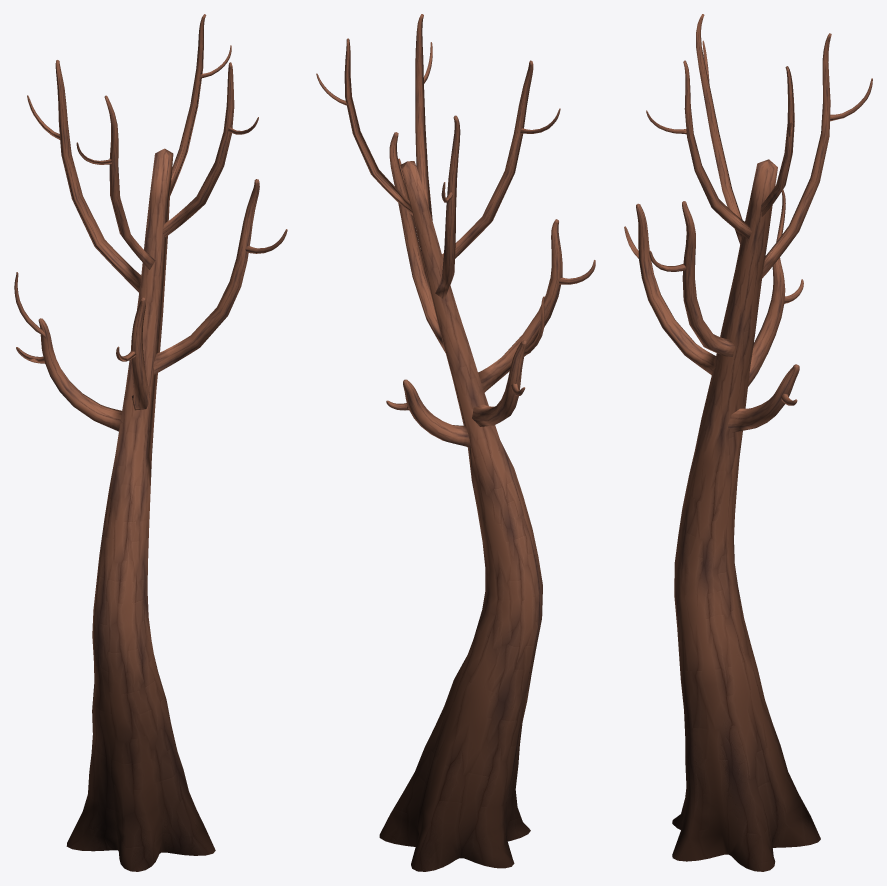
The model's file is commontree_4_bare.gltf.
3 views of the same model, side by side, from view 1: azimuth 30°, elevation 25°; view 2: azimuth 150°, elevation 25°; view 3: azimuth 270°, elevation 25° (orthographic). The views are drawn at different scales.
Parts seen in each view (by area): view 1: commontree_4_bare; view 2: commontree_4_bare; view 3: commontree_4_bare.
Boxes of the visible parts, left/top/right/bottom form: commontree_4_bare: left=14, top=14, right=287, bottom=871; commontree_4_bare: left=316, top=14, right=595, bottom=871; commontree_4_bare: left=624, top=14, right=872, bottom=871.
Bounding box in the file's own units: 2.4 × 8.2 × 2.27.
1 material, 1 textured.
